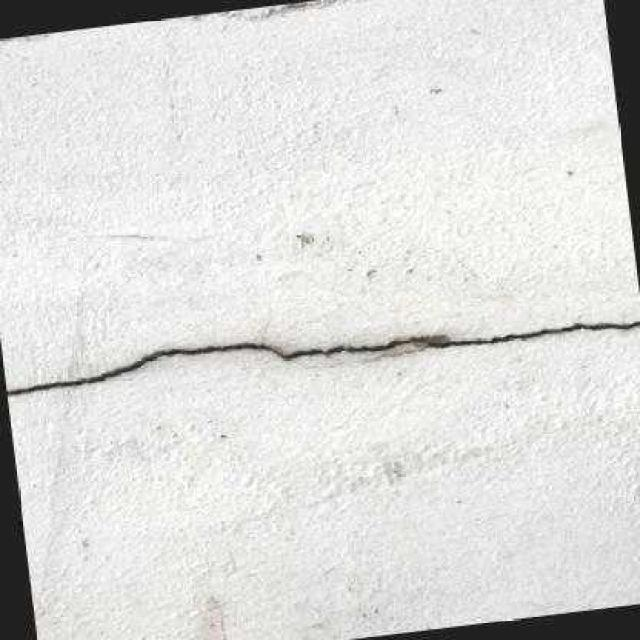D00: (6, 319, 640, 394)
